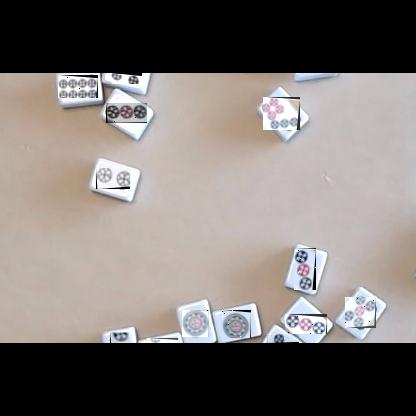1p: (222, 310, 251, 338), (182, 310, 209, 337)
2p: (96, 168, 130, 189), (110, 332, 129, 343)
3p: (294, 248, 316, 290), (285, 314, 327, 334), (106, 103, 147, 123)
4p: (111, 73, 142, 84)
5p: (345, 297, 376, 328), (267, 334, 299, 343), (147, 338, 178, 343)
7p: (263, 97, 300, 130)
8p: (58, 75, 98, 98)
